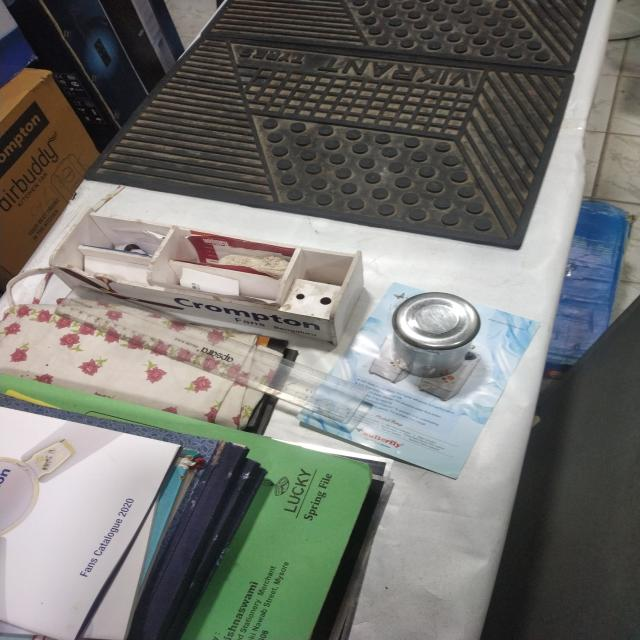book: (0, 371, 390, 640)
